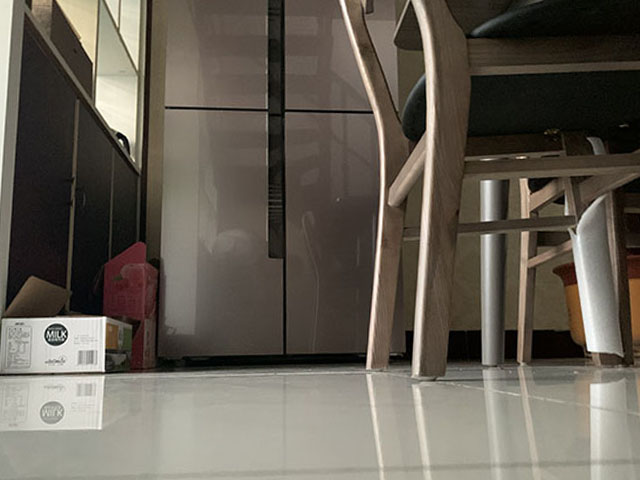stool: (339, 1, 640, 380)
